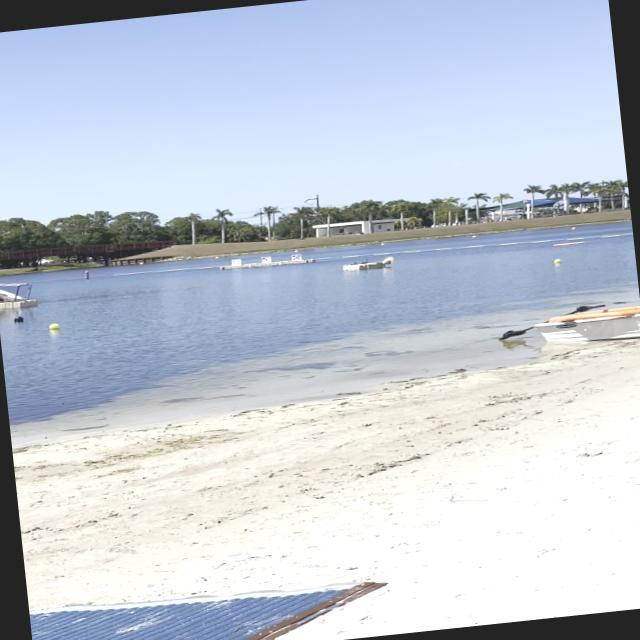buoy: (48, 322, 61, 330), (14, 315, 24, 322), (554, 258, 562, 262)
